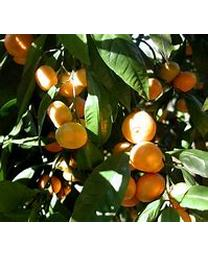lemon: (120, 112, 155, 144), (130, 141, 162, 172), (134, 172, 164, 203), (57, 122, 86, 150), (48, 101, 73, 125), (175, 71, 196, 92)
